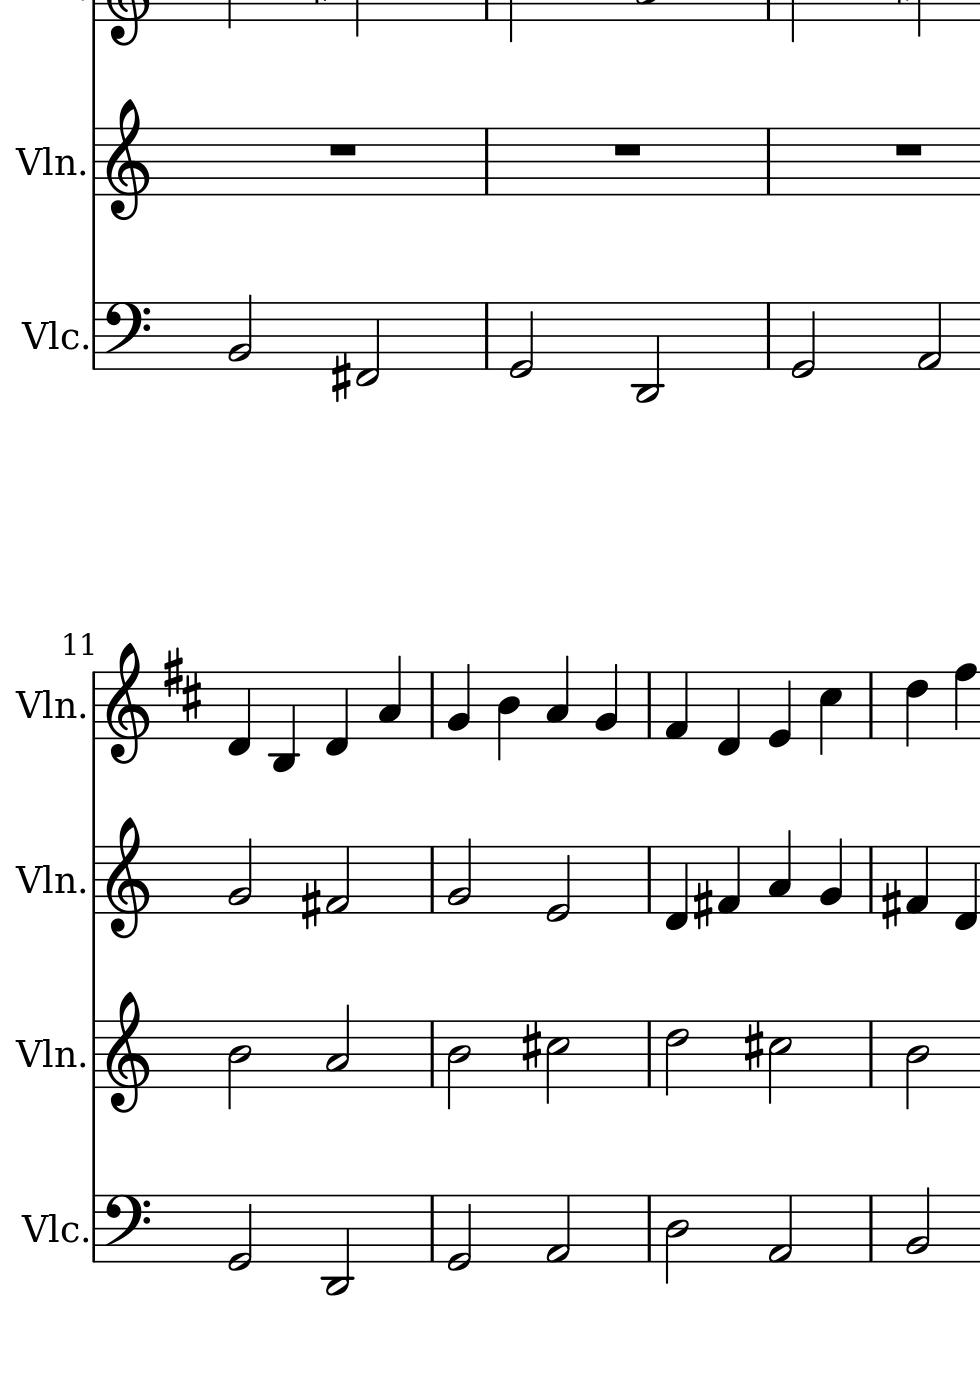1: (80, 629, 95, 657), (64, 629, 77, 656)
2_-1: (354, 300, 381, 386)
2_-3: (320, 1193, 353, 1298), (631, 300, 663, 405)
2_0: (225, 1192, 253, 1273), (788, 300, 816, 381), (444, 1193, 472, 1273), (507, 301, 535, 379), (544, 844, 571, 923)
2_1: (915, 301, 943, 372), (767, 1193, 793, 1265), (323, 843, 350, 914), (544, 1194, 571, 1265)
2_2: (323, 1004, 351, 1089), (445, 836, 474, 915), (226, 293, 253, 371), (226, 836, 253, 914), (904, 1186, 931, 1263)
2_4: (225, 1019, 252, 1111), (904, 1019, 930, 1110), (445, 1018, 471, 1110), (663, 1193, 688, 1285)
2_5: (544, 1019, 570, 1106), (766, 1019, 791, 1106)
2_6: (663, 1019, 688, 1096)
4_-1: (224, 670, 252, 758), (322, 669, 349, 757), (715, 669, 741, 757), (663, 844, 689, 932), (952, 843, 977, 933)
4_-3: (269, 668, 298, 776)
4_0: (767, 669, 792, 749)
4_1: (663, 670, 689, 741), (716, 844, 742, 915), (904, 844, 929, 915)
4_2: (594, 662, 619, 741), (818, 836, 843, 915), (447, 662, 471, 741)
4_3: (766, 828, 792, 914), (377, 654, 402, 740), (544, 655, 570, 739)
4_4: (495, 670, 520, 762)
4_5: (817, 669, 842, 757)
4_6: (903, 670, 927, 749)
4_8: (950, 661, 978, 742)
D_S: (162, 644, 202, 723)
Fclef: (103, 1193, 153, 1266), (103, 300, 152, 371)
Gclef: (103, 95, 151, 220), (104, 815, 151, 940), (104, 641, 150, 766), (104, 990, 150, 1113)
Rests1: (325, 137, 358, 159), (891, 139, 926, 158), (610, 140, 643, 158)
Sharp: (519, 1019, 542, 1074), (878, 877, 902, 931), (298, 878, 321, 931), (329, 351, 351, 404), (692, 878, 713, 931), (742, 1020, 764, 1073)
Single_barline: (861, 846, 879, 913), (641, 847, 658, 913), (862, 672, 879, 737), (760, 128, 776, 196), (423, 673, 440, 737), (641, 1195, 657, 1262), (478, 129, 494, 195), (641, 672, 657, 738), (424, 1021, 440, 1087), (641, 1021, 657, 1087), (424, 847, 440, 912), (87, 129, 102, 196), (762, 303, 776, 370), (87, 1021, 102, 1088), (479, 303, 494, 369), (863, 1021, 878, 1087), (424, 1196, 439, 1262), (863, 1196, 878, 1261), (87, 847, 101, 915), (87, 1195, 101, 1262), (87, 303, 101, 369), (87, 672, 100, 740)
Vlc: (20, 314, 78, 356), (21, 1207, 78, 1248)
Vln: (14, 1033, 78, 1076), (15, 140, 77, 185), (15, 684, 78, 727), (14, 860, 78, 901)
